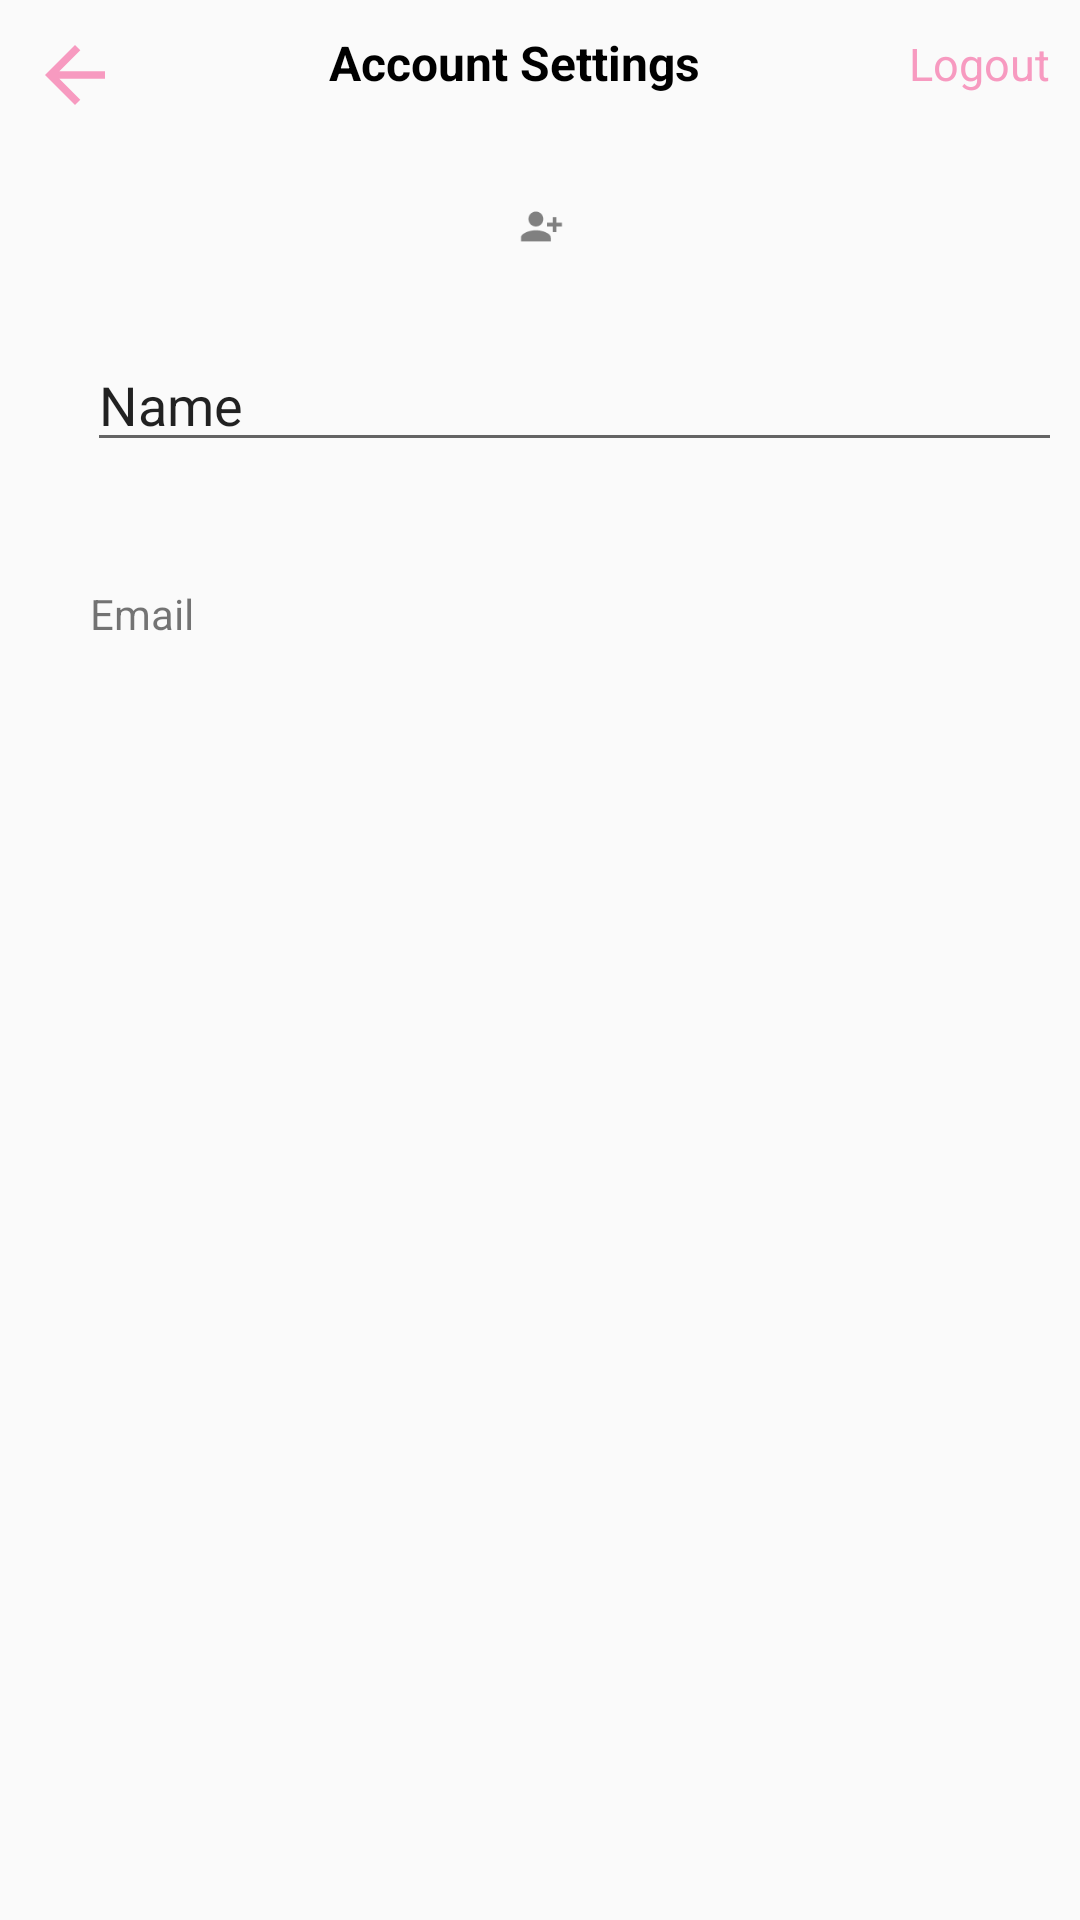

Icons on this 1080×1920 Android screen, each with the point to tap as [x,y]:
profile: [541,226]
proflie back: [75,75]
